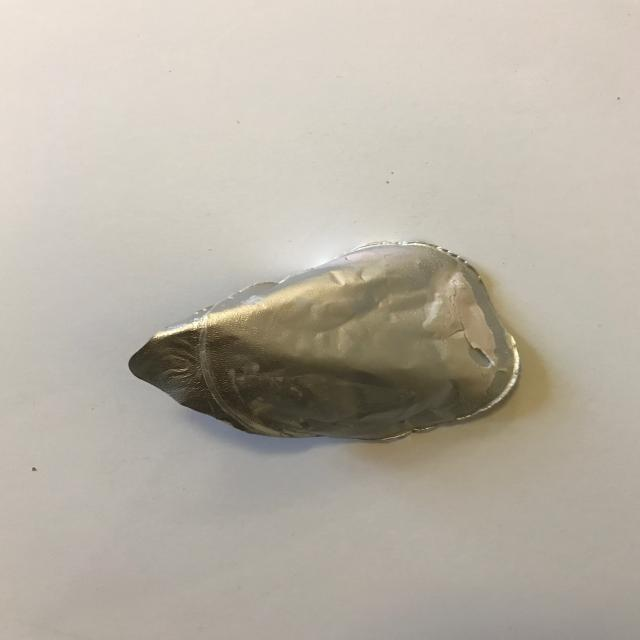trash: (128, 239, 522, 442)
